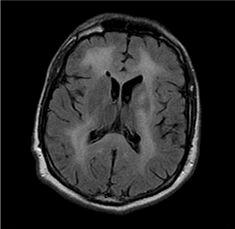Normal_Brain: (3, 1, 235, 229)
